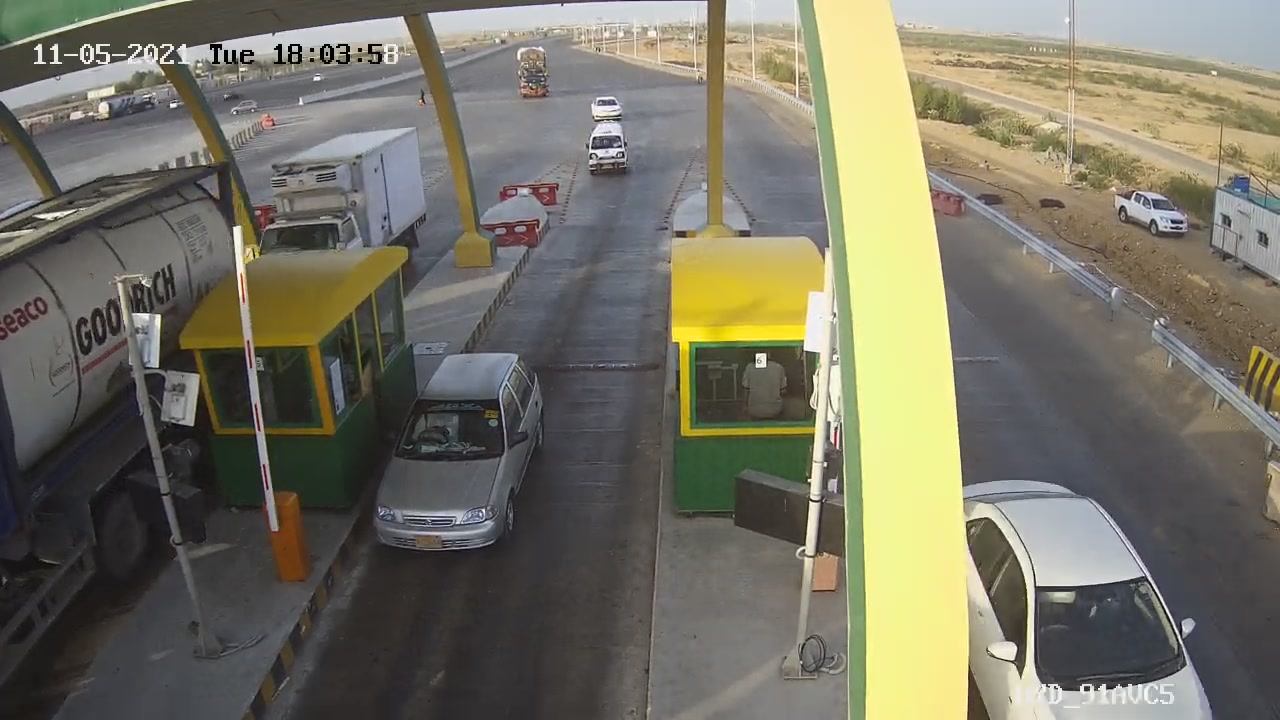F1: (352, 333, 568, 575)
